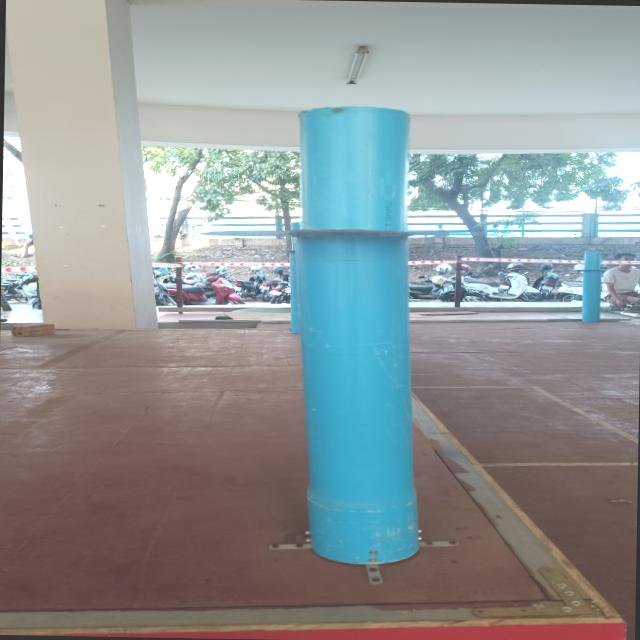pole: (177, 97, 535, 364)
